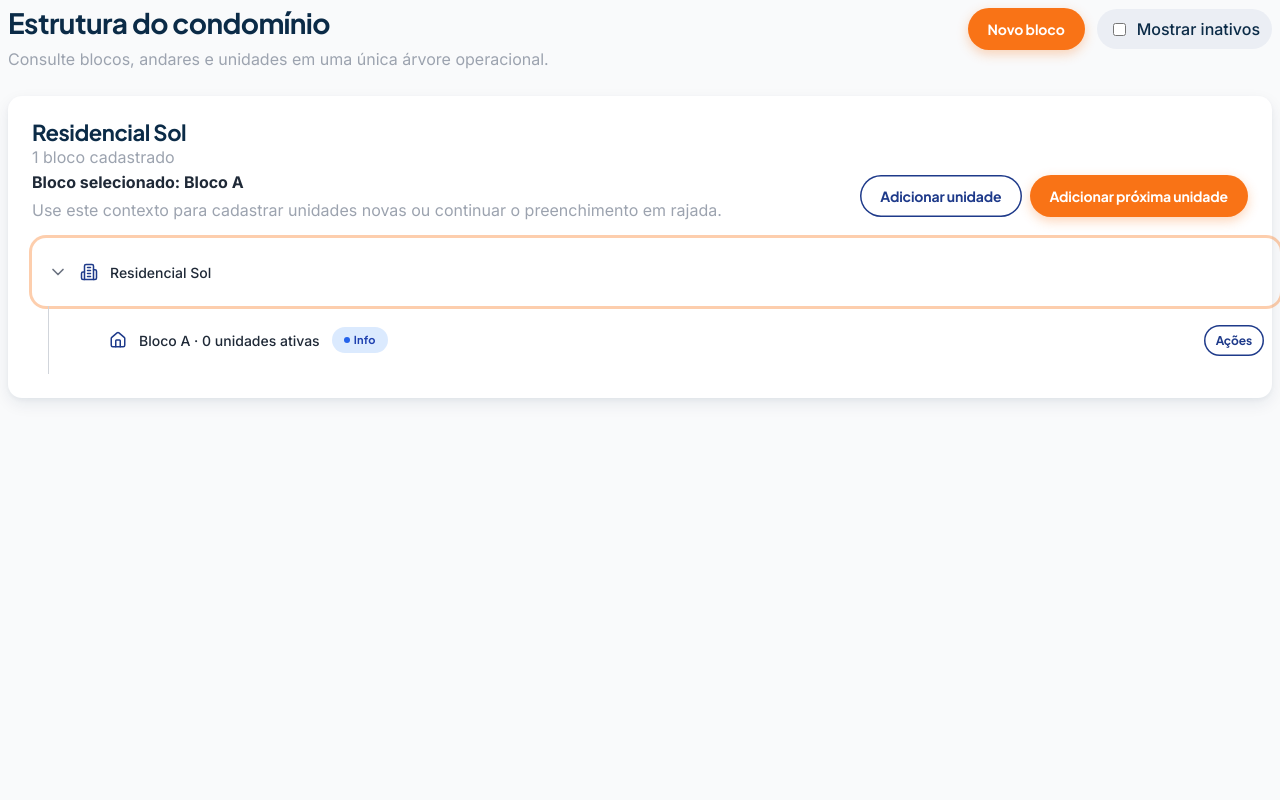
Test: EstruturaPage integration › renames a bloco from the action menu
Expected: the list item "Bloco A · 0 unidades ativas Info Ações" is shown, [109,325,1264,356]
Click the button with aria-label "Ações do bloco Bloco A": [1234, 340] box [1204,325,1264,356]
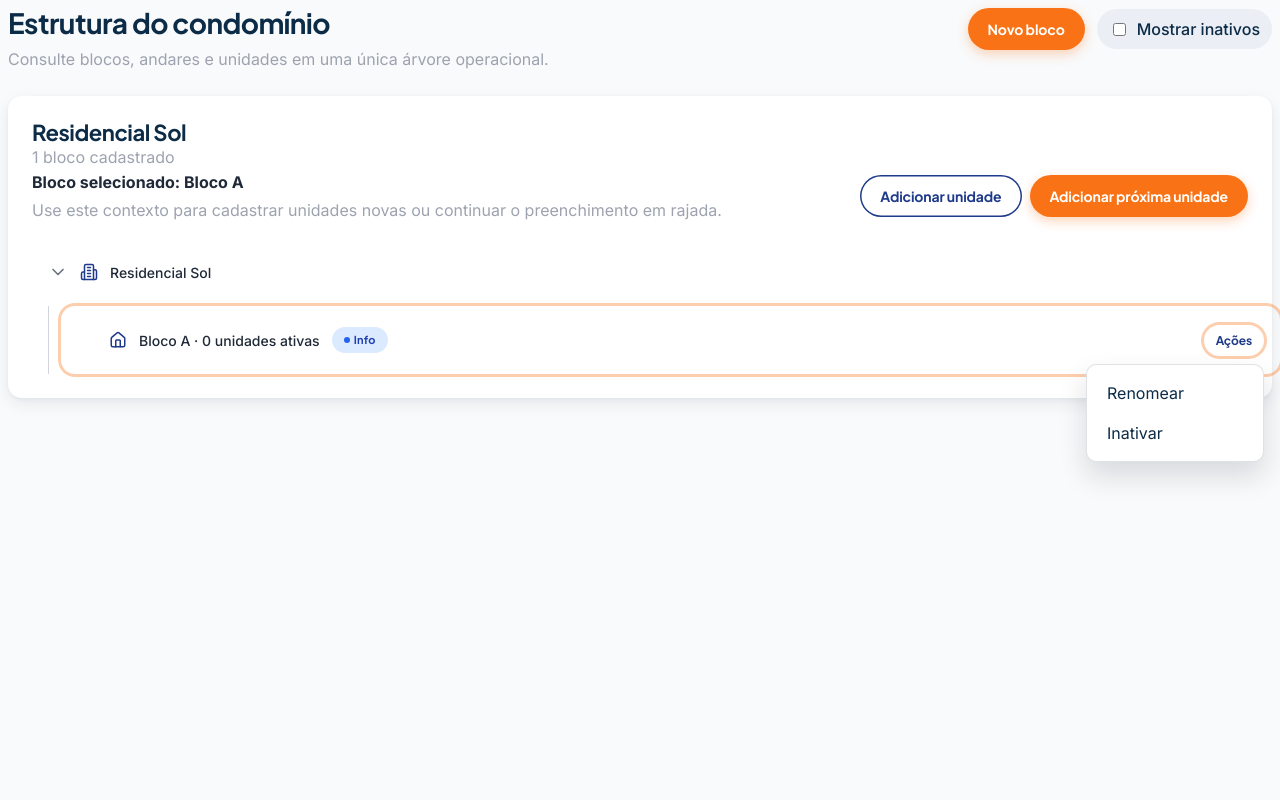
Click the menu item "Renomear": [1175, 393] box [1095,373,1255,413]
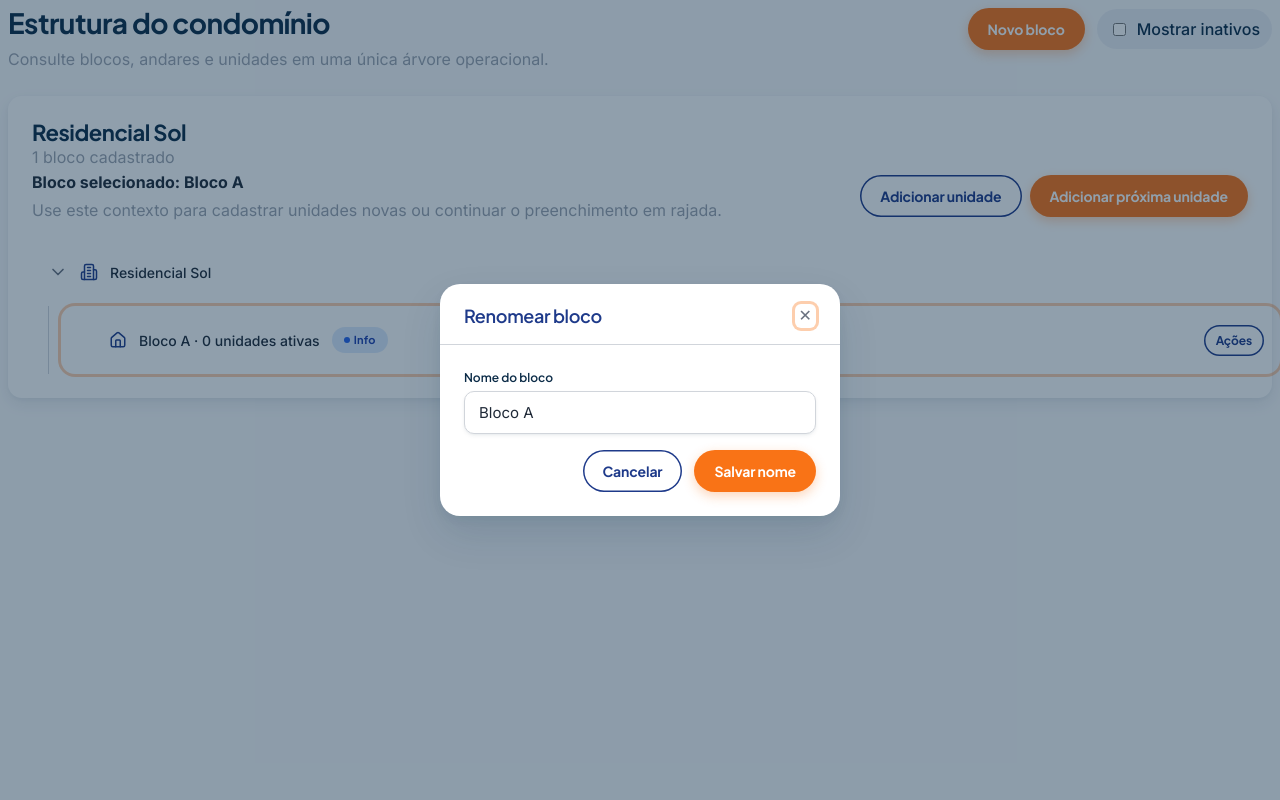
Replace the text in the field labelled "Nome do bloco" with "Torre Alfa": [640, 412] box [464,391,816,434]
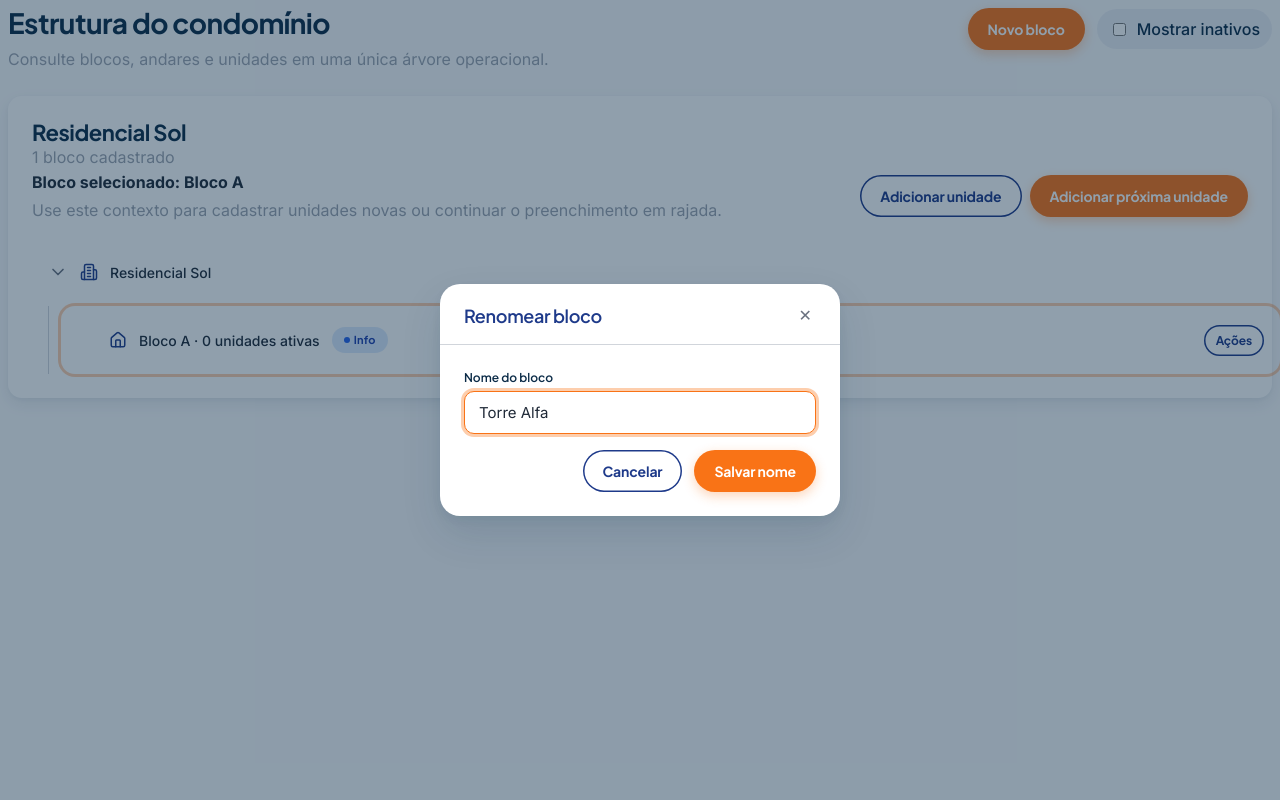
Click the button "Salvar nome": [755, 471] box [694,450,816,492]
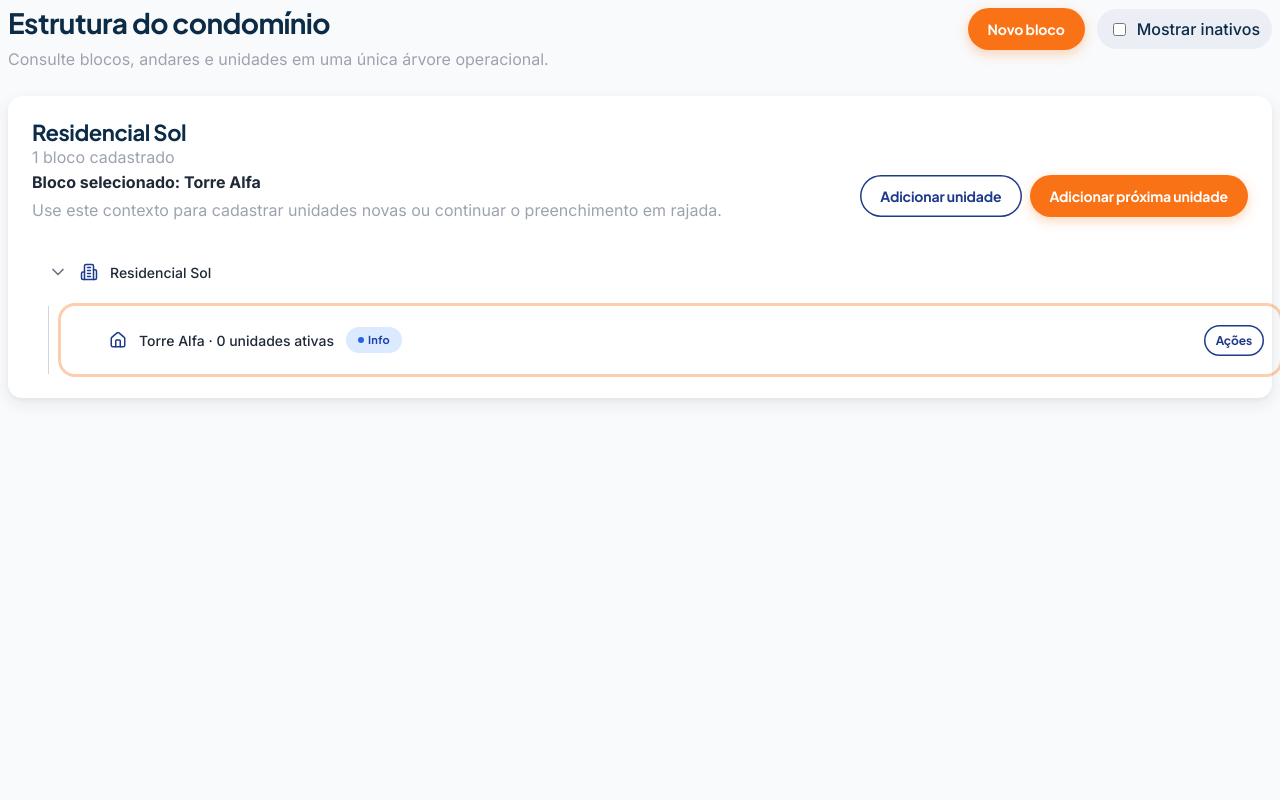
Expected: the list item "Torre Alfa · 0 unidades ativas Info Ações" is shown, [61,306,1279,374]
